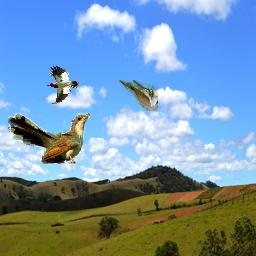Cuckoo: (8, 114, 90, 165), (120, 81, 159, 112)
Woodpecker: (47, 66, 80, 105)
